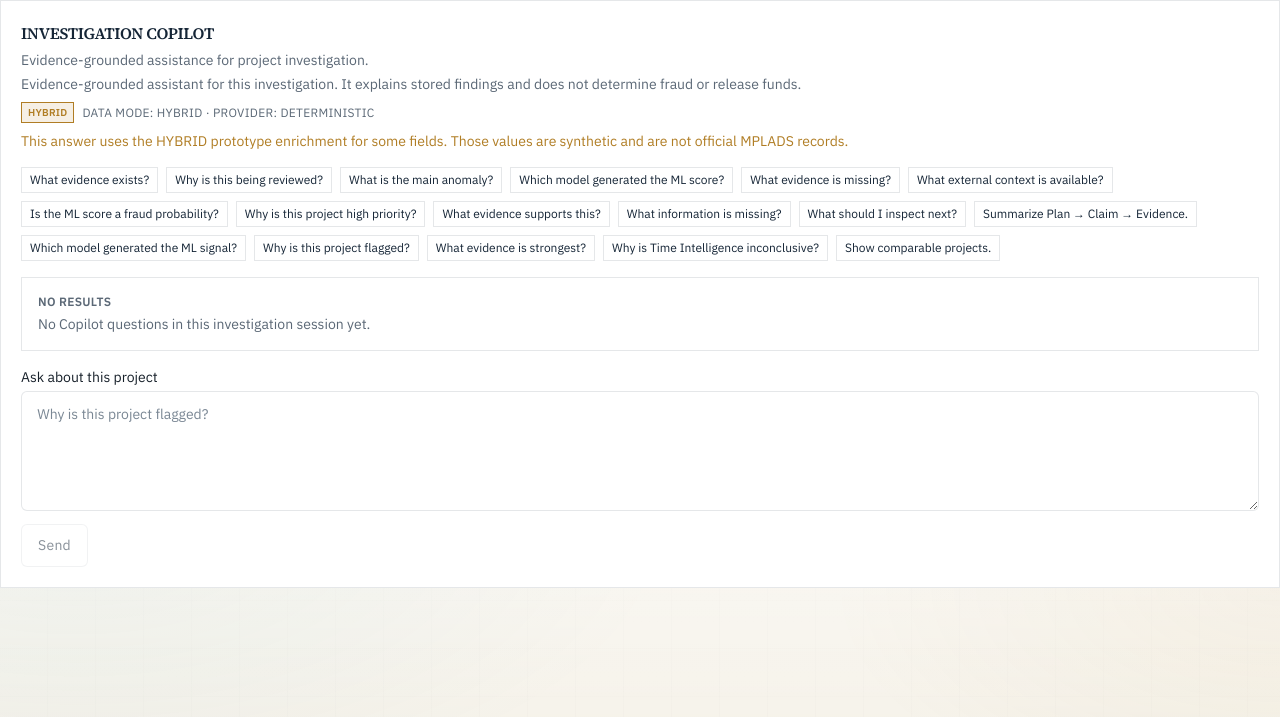
it: InvestigationCopilotPanel › shows an insufficient-evidence state
Expected: the heading "INVESTIGATION COPILOT" is shown, [21, 22, 214, 44]
Click the button "What evidence is strongest?": {"x": 511, "y": 248} [427, 235, 595, 261]
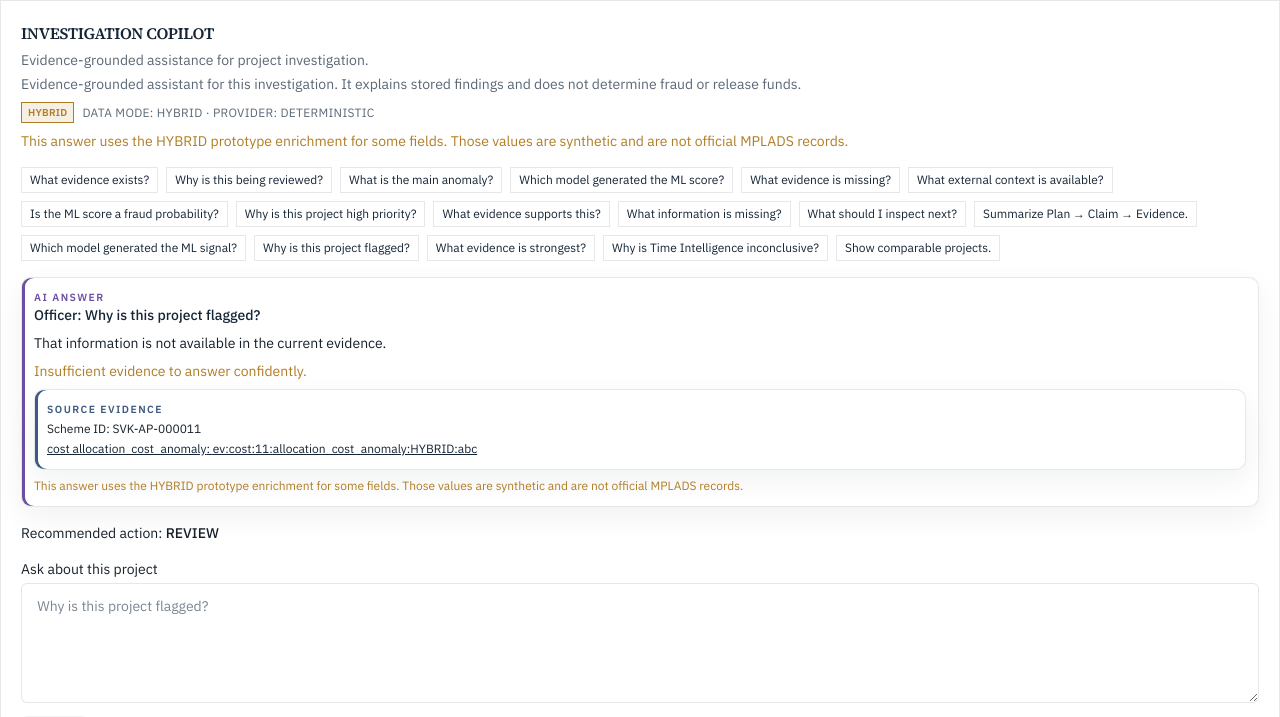
Now the text "Insufficient evidence to answer confidently." is shown, box [34, 362, 307, 380]
